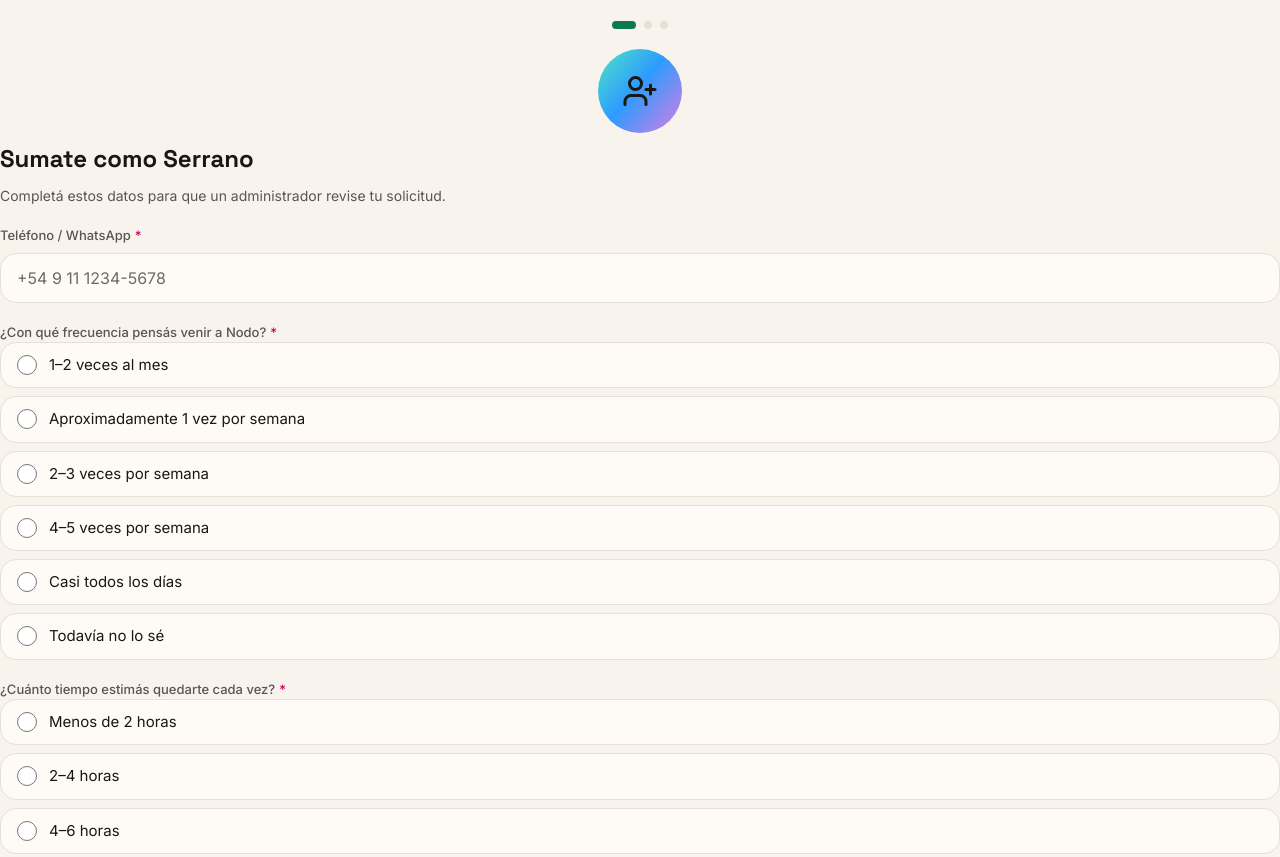
SolicitarForm — CTA and link › disables the CTA and shows "Enviando..." while pending
The width and height of the screenshot is (1280, 857).
Step 1. Type "1122334455" into the field labelled "Teléfono / WhatsApp" → (640, 278), box [0,252,1279,302]
Step 2. Click the radio button labelled "Aproximadamente 1 vez por semana" → (27, 419), box [17,409,37,429]
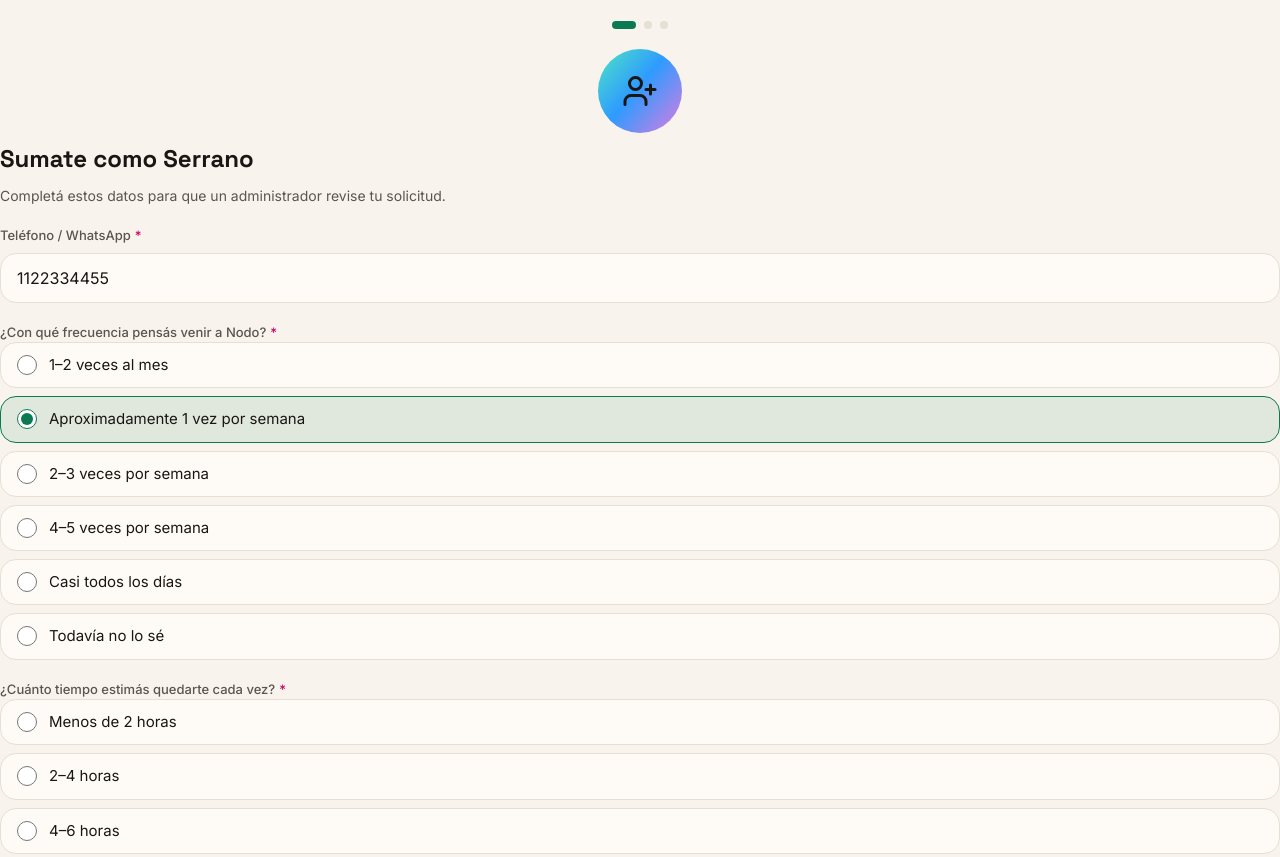
Step 3. Click the radio button labelled "2–4 horas" → (27, 776), box [17,766,37,786]
(page scrolled)
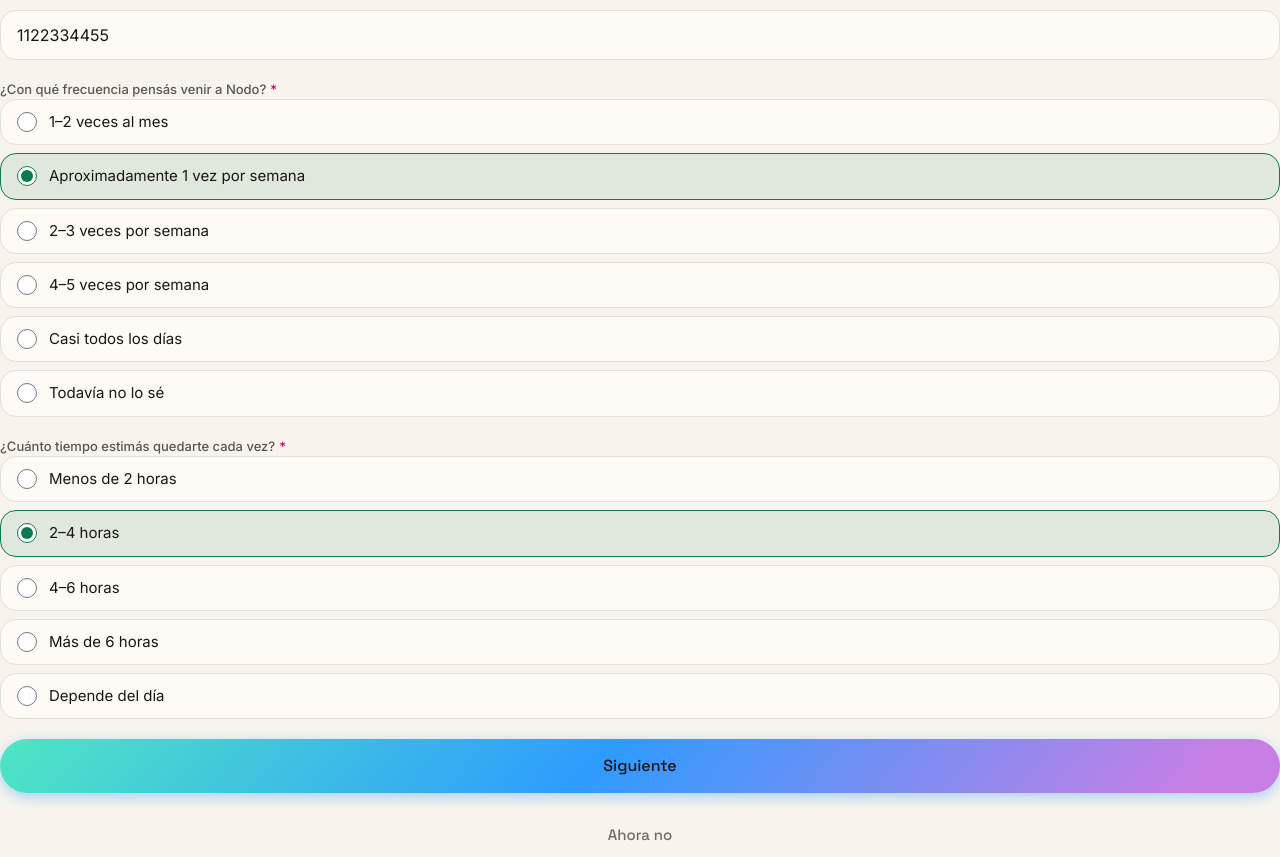
Step 4. Click the button "Siguiente" → (640, 766), box [0,739,1279,793]
(page scrolled)
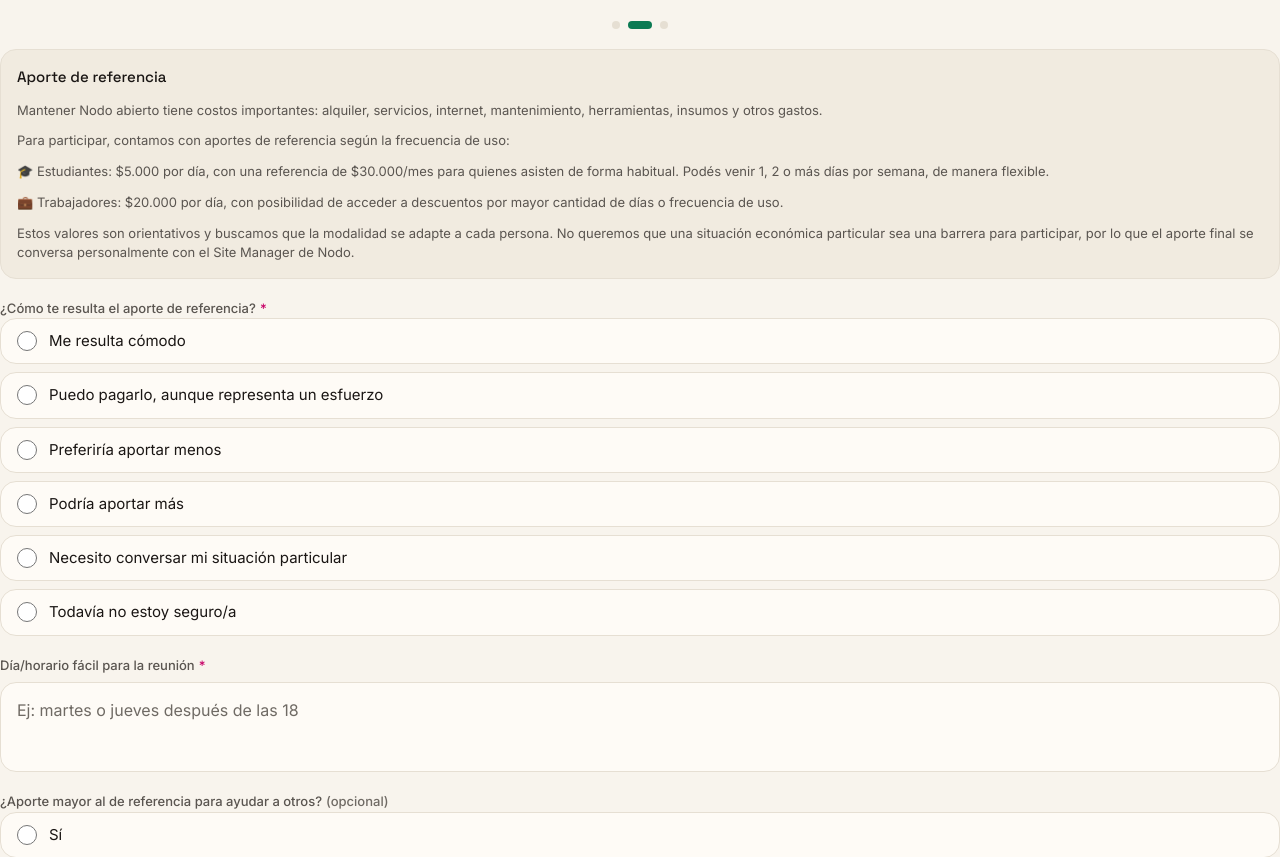
Step 5. Click the radio button labelled "Me resulta cómodo" → (27, 341), box [17,331,37,351]
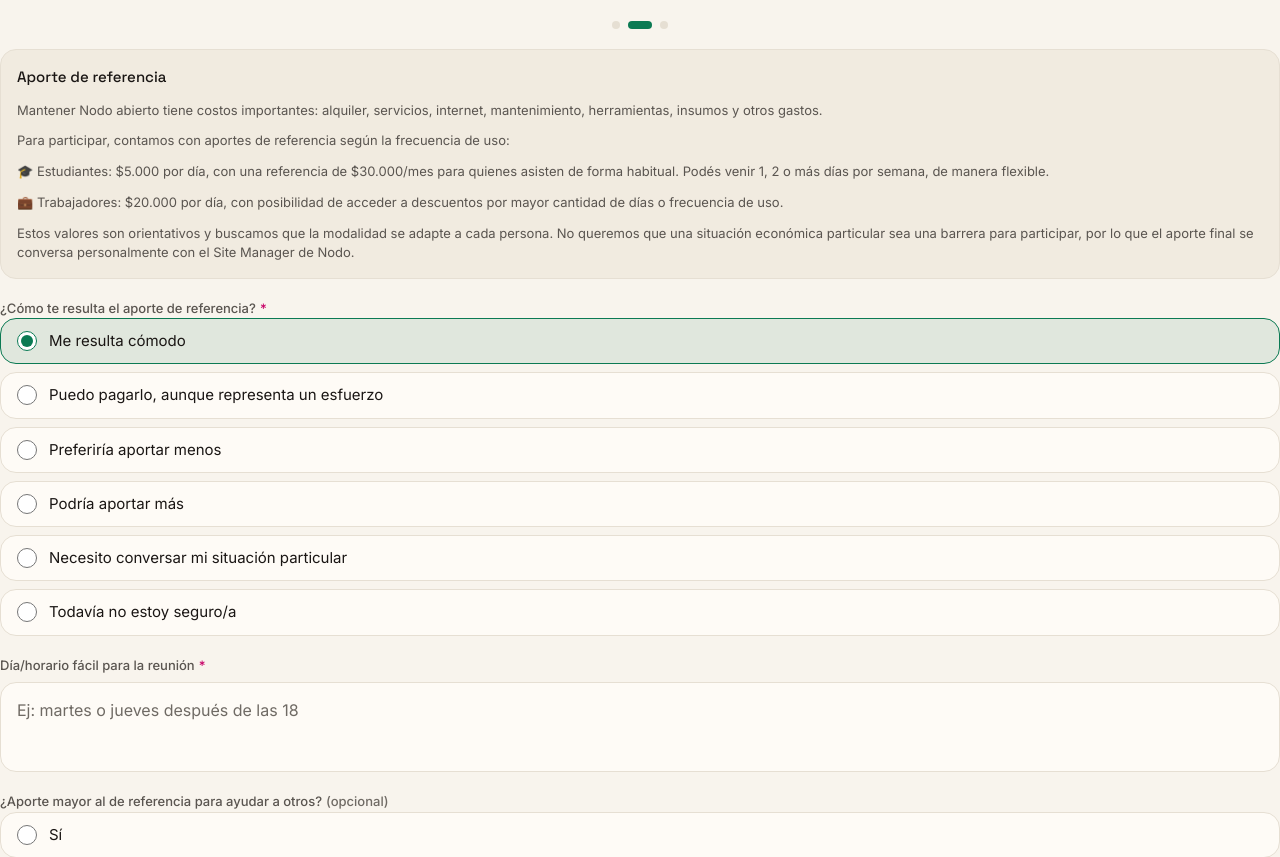
Step 6. Type "Martes 18hs" into the text box labelled "Día/horario fácil para la reunión" → (640, 727), box [0,682,1279,772]
(page scrolled)
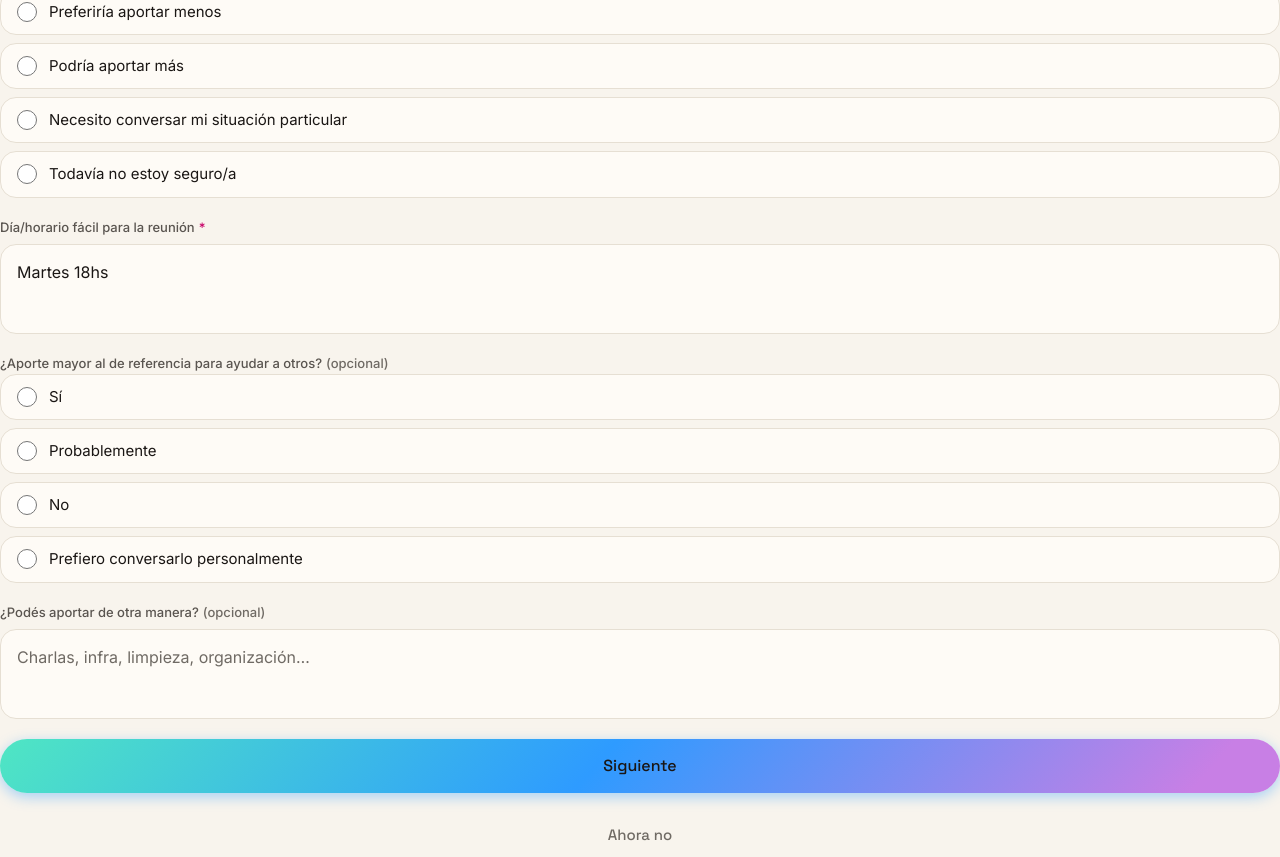
Step 7. Click the button "Siguiente" → (640, 766), box [0,739,1279,793]
(page scrolled)
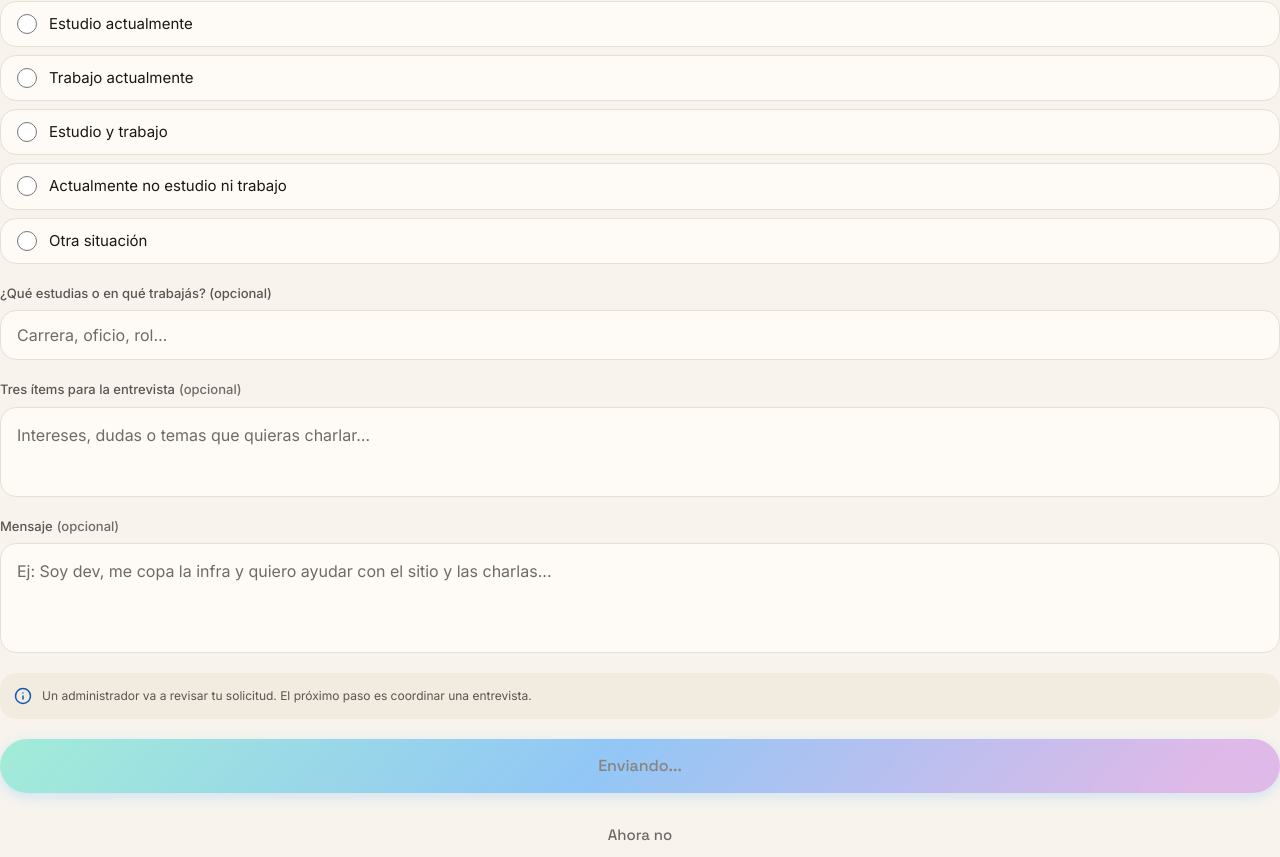
Check: the button "Enviando..." is disabled, box [0,739,1279,793]
